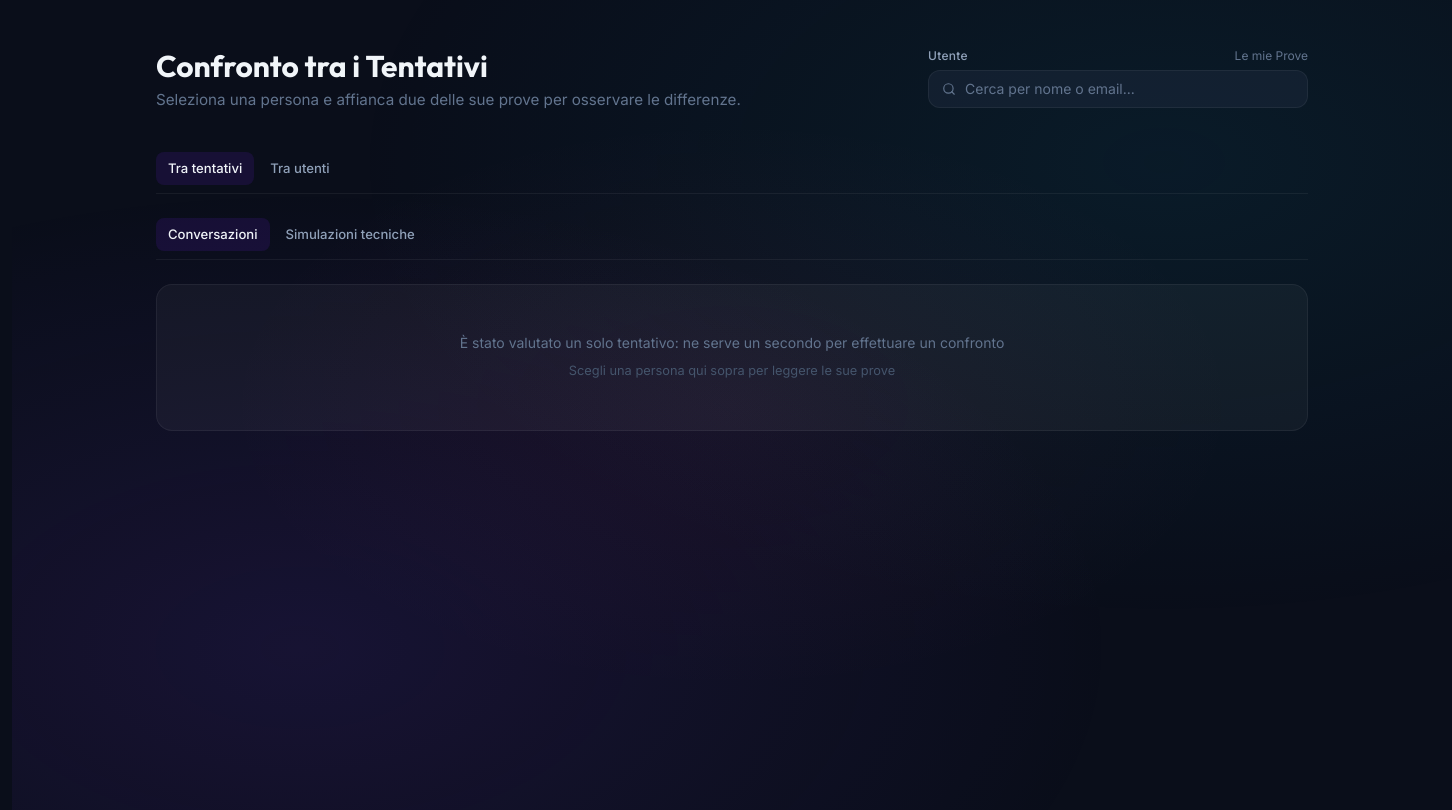
Test case: scelta della persona › scegliere una persona la scrive nell’indirizzo
Click the dropdown.
click(1118, 89)  # box [928, 70, 1308, 108]
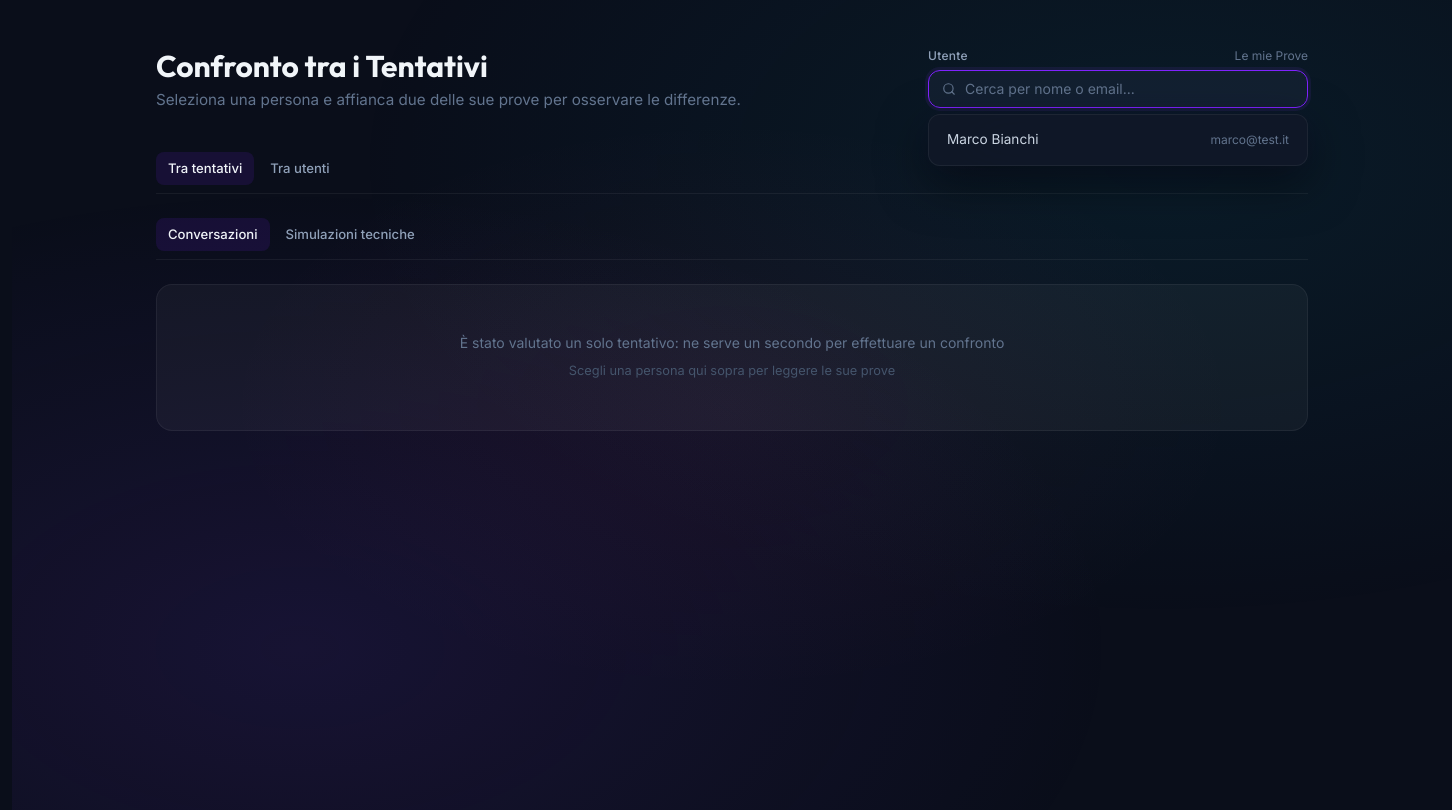
Click the option "Marco Bianchi marco@test.it".
click(993, 139)  # box [947, 131, 1289, 147]
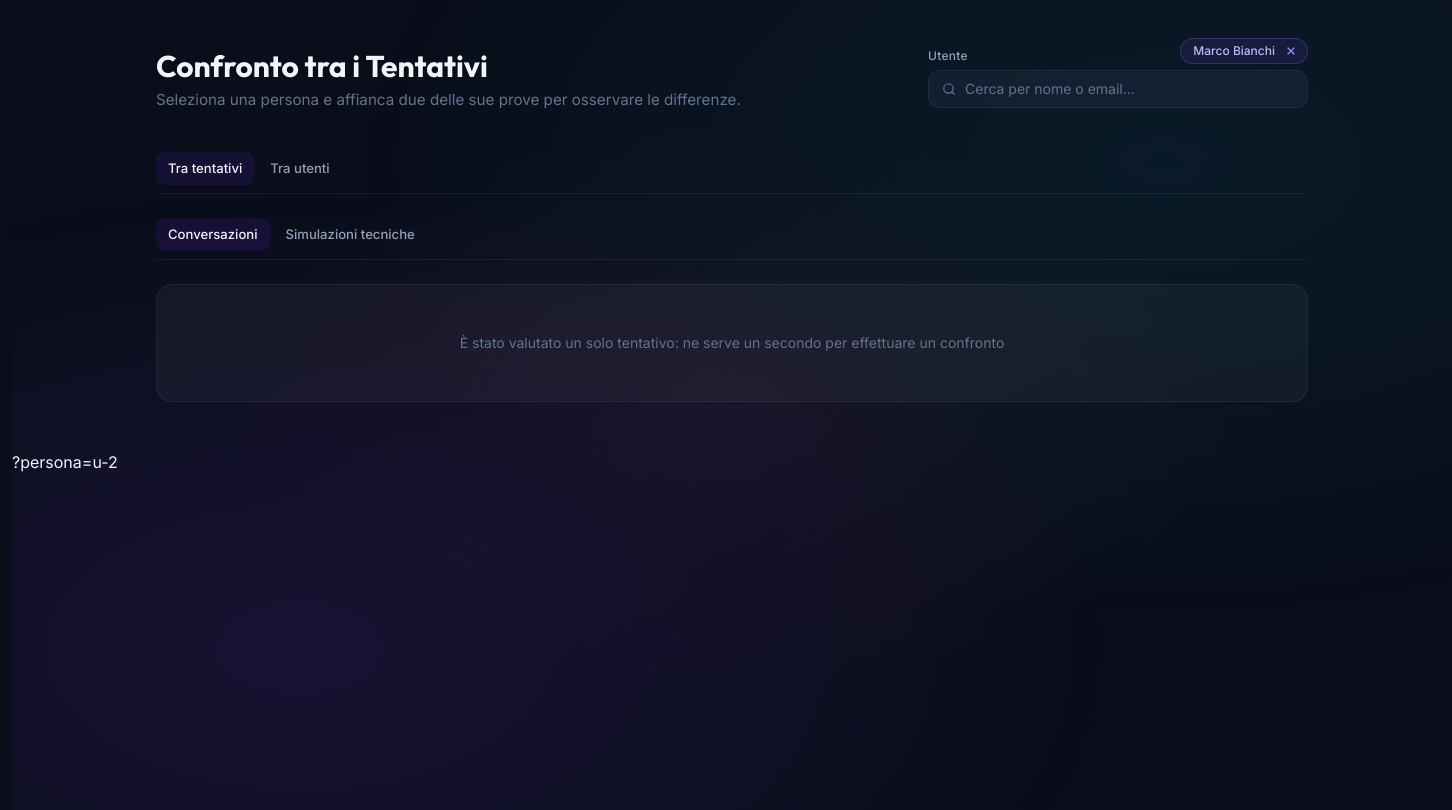
Expected: the text with test id "indirizzo" shows "persona=u-2", [12, 452, 118, 472]
